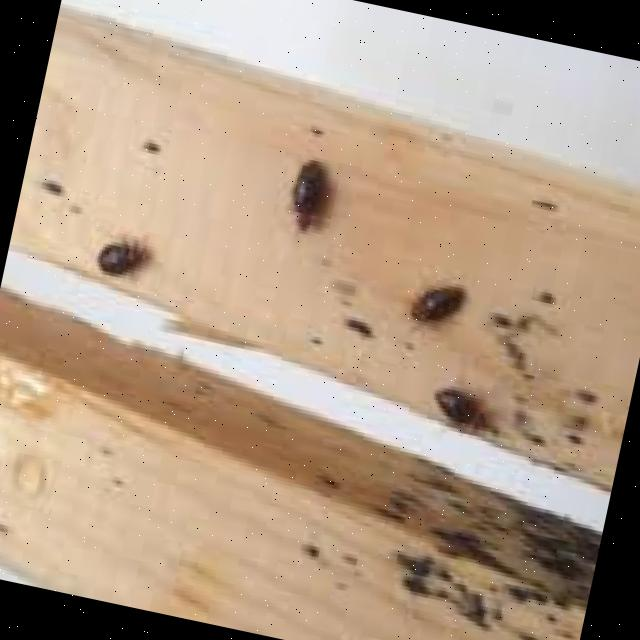kene: (262, 146, 367, 248)
